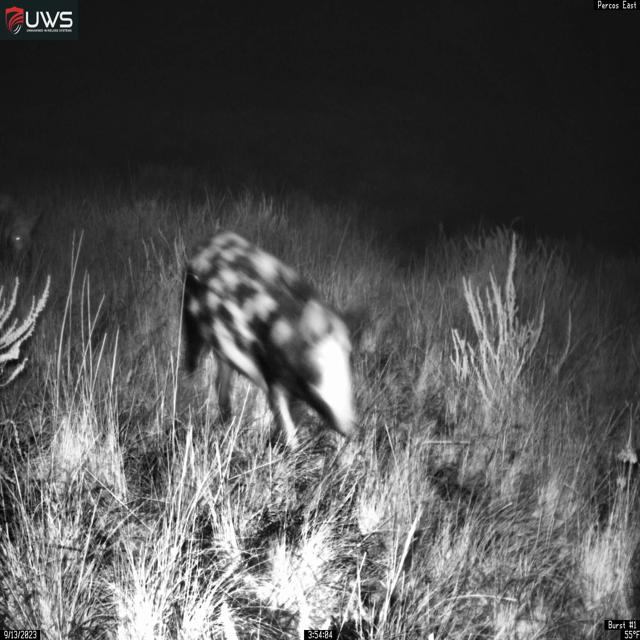pig: (179, 229, 366, 455)
